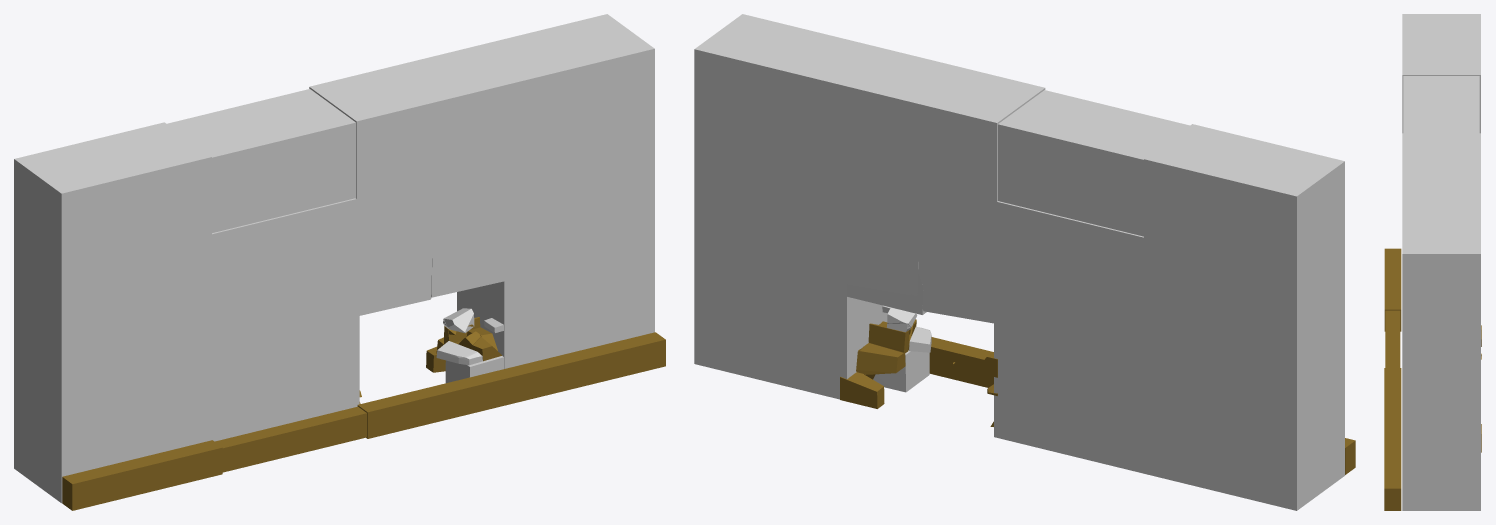
The model's file is Muro1.fbx.
3 views of the same model, side by side, from view 1: azimuth 30°, elevation 25°; view 2: azimuth 150°, elevation 25°; view 3: azimuth 270°, elevation 25° (orthographic). The views are drawn at different scales.
Visible parts, largest first — view 1: Cube.009, Cube.016, Cube.015, Cube.014, Cube.005, Cube.003, Cube.008, Cube.011, Cube.012, Cube.006, Cube.010, Cube.001 (+10 smaller); view 2: Cube.009, Cube.015, Cube.016, Cube.014, Cube.001, Cube.005, Cube.003, Cube.004, Cube.008, Cube.010, Cube.002, Cube.012 (+10 smaller); view 3: Cube.016, Cube.004, Cube.008, Cube.012, Cube.009, Cube.015, Cube.014, Cube.017, Cube.018, Cube.013, Cube.007.
Part boxes in pixels (x1,y1,x2,y2): Cube.009: (14, 122, 211, 271); Cube.016: (457, 14, 654, 162); Cube.015: (309, 50, 506, 198); Cube.014: (167, 89, 355, 232); Cube.005: (14, 312, 211, 425); Cube.003: (14, 235, 209, 348); Cube.008: (467, 203, 654, 317); Cube.011: (356, 163, 506, 276); Cube.012: (504, 126, 654, 239); Cube.006: (209, 276, 359, 389); Cube.010: (209, 198, 359, 311); Cube.001: (14, 389, 211, 503); Cube.009: (1144, 124, 1344, 275); Cube.015: (844, 51, 1045, 201); Cube.016: (694, 14, 894, 164); Cube.014: (998, 90, 1189, 236); Cube.001: (1144, 395, 1344, 510); Cube.005: (1144, 316, 1344, 432); Cube.003: (1144, 239, 1344, 353); Cube.004: (694, 285, 887, 399); Cube.008: (694, 206, 872, 322); Cube.010: (994, 201, 1146, 316); Cube.002: (994, 359, 1146, 474); Cube.012: (694, 128, 844, 243); Cube.016: (1402, 193, 1480, 318); Cube.004: (1402, 446, 1480, 510); Cube.008: (1402, 382, 1480, 446); Cube.012: (1402, 318, 1480, 382); Cube.009: (1402, 14, 1480, 133); Cube.015: (1402, 133, 1480, 193); Cube.014: (1403, 76, 1479, 133); Cube.017: (1384, 429, 1401, 510); Cube.018: (1384, 248, 1401, 331); Cube.013: (1384, 368, 1401, 428); Cube.007: (1385, 310, 1400, 367).
Size of the model in its own units: 428 by 214 by 73.39.
